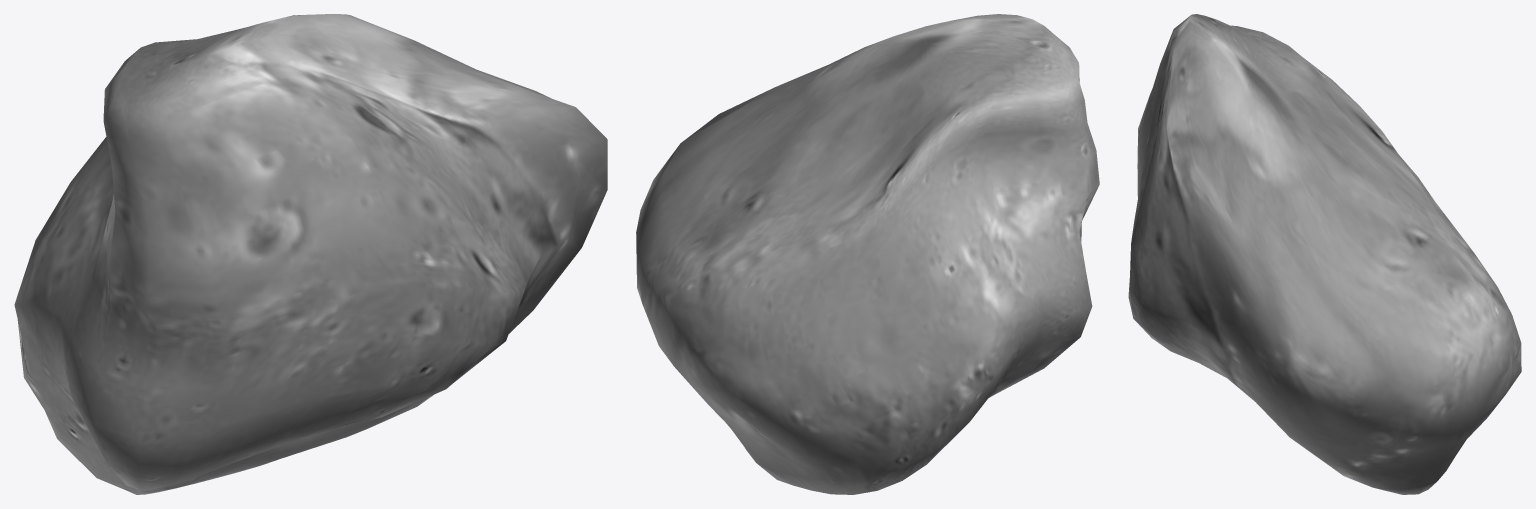
File: Asteroid3.FBX
The picture shows the model from 3 angles, left to right: view 1: azimuth 30°, elevation 25°; view 2: azimuth 150°, elevation 25°; view 3: azimuth 270°, elevation 25°; orthographic projection. The views are drawn at different scales.
Parts seen in each view (by area): view 1: Sphere01; view 2: Sphere01; view 3: Sphere01.
Part boxes in pixels (box(x1,y1,x2,y2)): Sphere01: box(14, 14, 607, 494); Sphere01: box(636, 14, 1099, 494); Sphere01: box(1128, 14, 1521, 494).
Bounding box in the file's own units: 118 × 117 × 102.
Materials: 1 (1 with a texture image).
